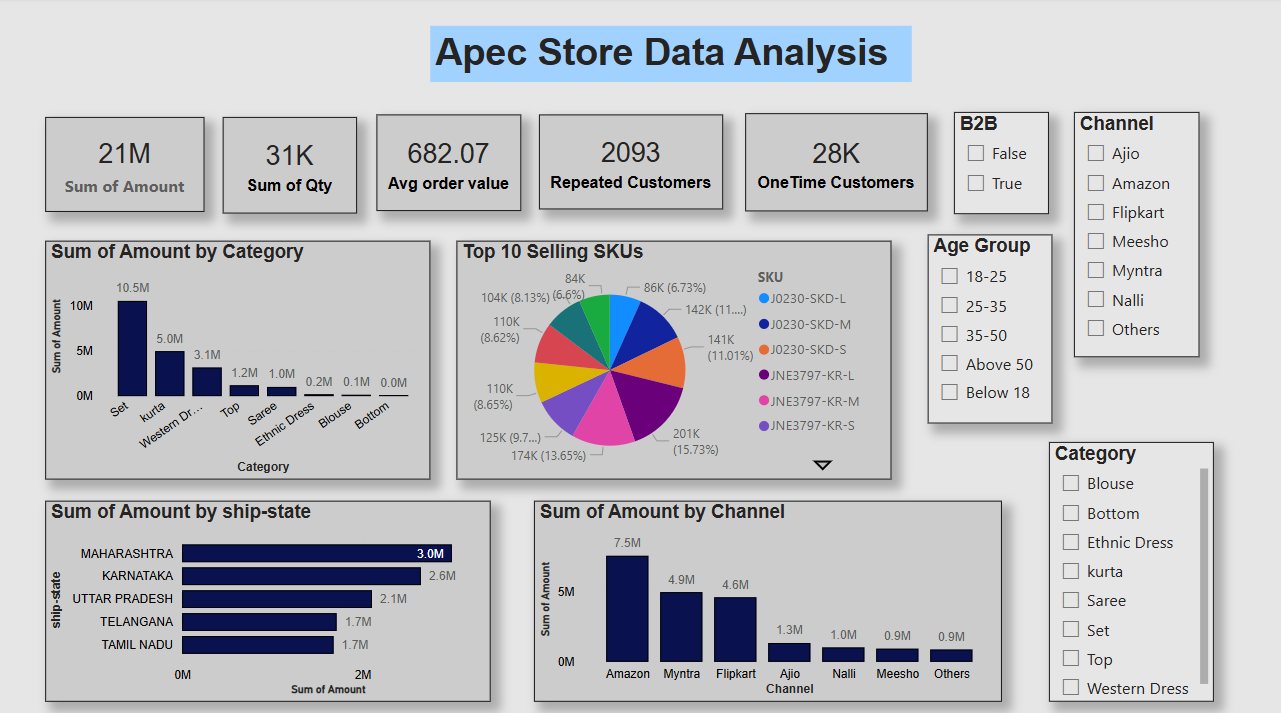

The page's visual inventory and layout, read from the dashboard file:
{"tool":"powerbi","page":{"name":"Sales Overview  and Analysis","canvas":[1280,720],"ordinal":0},"visuals":[{"type":"textbox","box":[429.2,28.6,478.9,56],"z":0},{"type":"card","fields":{"Values":["Sum(Apec Stores.Qty)"]},"box":[222.5,119.2,133.5,96.1],"z":1000},{"type":"card","fields":{"Values":["Metrics.Avg order value"]},"box":[375.5,117.5,144.2,96.1],"z":2000},{"type":"card","fields":{"Values":["Metrics.Repeated Customers"]},"box":[537.5,117.5,183.3,94.3],"z":3000},{"type":"card","fields":{"Values":["Metrics.OneTime Customers"]},"box":[742.2,115.7,181.5,97.9],"z":4000},{"type":"card","fields":{"Values":["Sum(Apec Stores.Amount)"]},"box":[46.3,119.2,158.4,94.3],"z":5000},{"type":"slicer","title":"B2B","fields":{"Values":["Apec Stores.B2B"]},"box":[950.4,113.9,94.3,101.4],"z":6000},{"type":"slicer","title":"Channel","fields":{"Values":["Apec Stores.Channel "]},"box":[1069.7,113.9,124.6,243.8],"z":7000},{"type":"barChart","fields":{"Category":["Apec Stores.ship-state"],"Y":["Sum(Apec Stores.Amount)"]},"box":[46,501.3,442.8,200.3],"z":8000},{"type":"clusteredColumnChart","fields":{"Category":["Apec Stores.Category"],"Y":["Sum(Apec Stores.Amount)"]},"box":[46,242.6,383.1,237.6],"z":9000},{"type":"clusteredColumnChart","fields":{"Category":["Apec Stores.Channel "],"Y":["Sum(Apec Stores.Amount)"]},"box":[532.4,501.3,465.2,200.3],"z":10000},{"type":"pieChart","title":"Top 10 Selling SKUs","fields":{"Category":["Apec Stores.SKU"],"Y":["Sum(Apec Stores.Amount)"]},"box":[455.3,242.6,432.9,237.6],"z":11000},{"type":"slicer","title":"Category","fields":{"Values":["Apec Stores.Category"]},"box":[1044.9,442.8,164.2,258.7],"z":12000},{"type":"slicer","title":"Age Group","fields":{"Values":["Apec Stores.Age_Group"]},"box":[924.3,236.4,124.4,187.8],"z":13000}]}

Visuals, with their boxes in screenshot pixels (x1, y1, x2, y2), scaled from the page's 1280x720 canvas onto the 1281x713 screenshot:
textbox: bbox(430, 28, 909, 84)
card - Sum(Apec Stores.Qty): bbox(223, 118, 356, 213)
card - Metrics.Avg order value: bbox(376, 116, 520, 212)
card - Metrics.Repeated Customers: bbox(538, 116, 721, 210)
card - Metrics.OneTime Customers: bbox(743, 115, 924, 212)
card - Sum(Apec Stores.Amount): bbox(46, 118, 205, 211)
"B2B" slicer: bbox(951, 113, 1046, 213)
"Channel" slicer: bbox(1071, 113, 1195, 354)
barChart - Apec Stores.ship-state x Sum(Apec Stores.Amount): bbox(46, 496, 489, 695)
clusteredColumnChart - Apec Stores.Category x Sum(Apec Stores.Amount): bbox(46, 240, 429, 476)
clusteredColumnChart - Apec Stores.Channel  x Sum(Apec Stores.Amount): bbox(533, 496, 998, 695)
"Top 10 Selling SKUs" pieChart: bbox(456, 240, 889, 476)
"Category" slicer: bbox(1046, 438, 1210, 695)
"Age Group" slicer: bbox(925, 234, 1050, 420)
